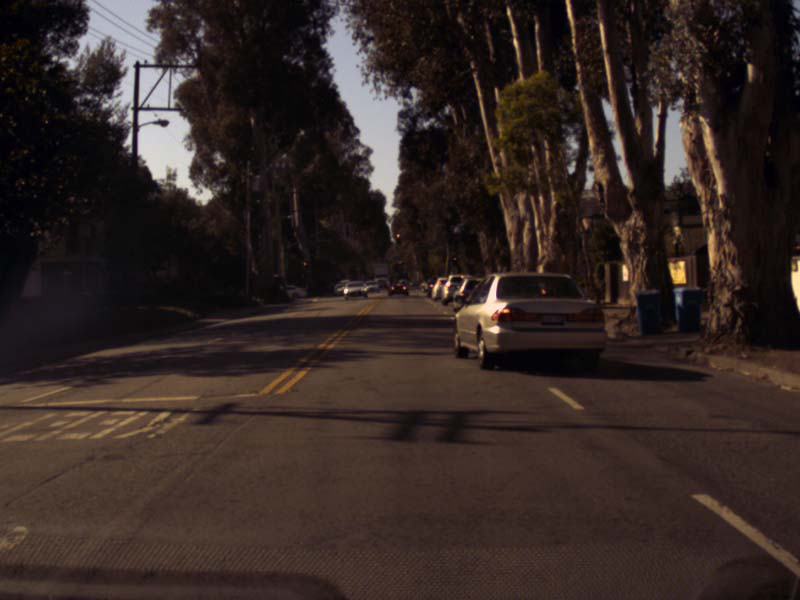Red: (395, 233, 400, 244), (302, 261, 307, 270), (451, 256, 456, 265), (397, 259, 401, 266)
